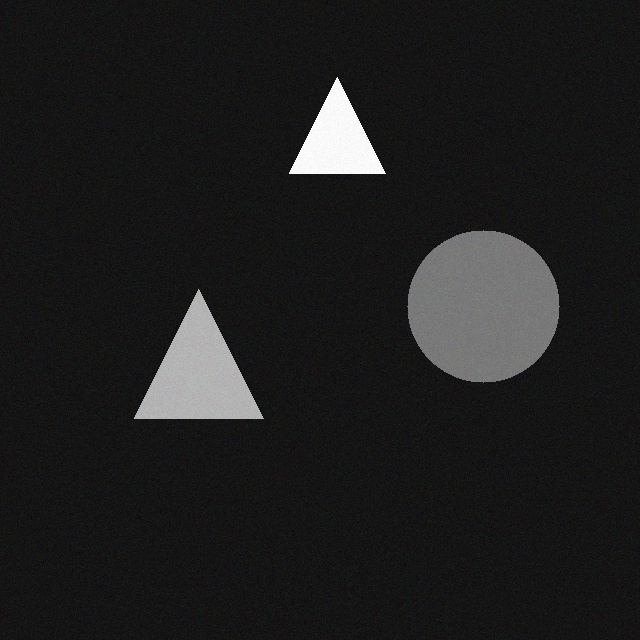circle: (407, 241, 559, 393)
triangle: (134, 300, 263, 429), (289, 88, 385, 184)
